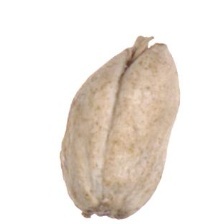L1: (124, 31, 163, 74), (77, 206, 130, 220)
L2: (58, 36, 180, 220)
